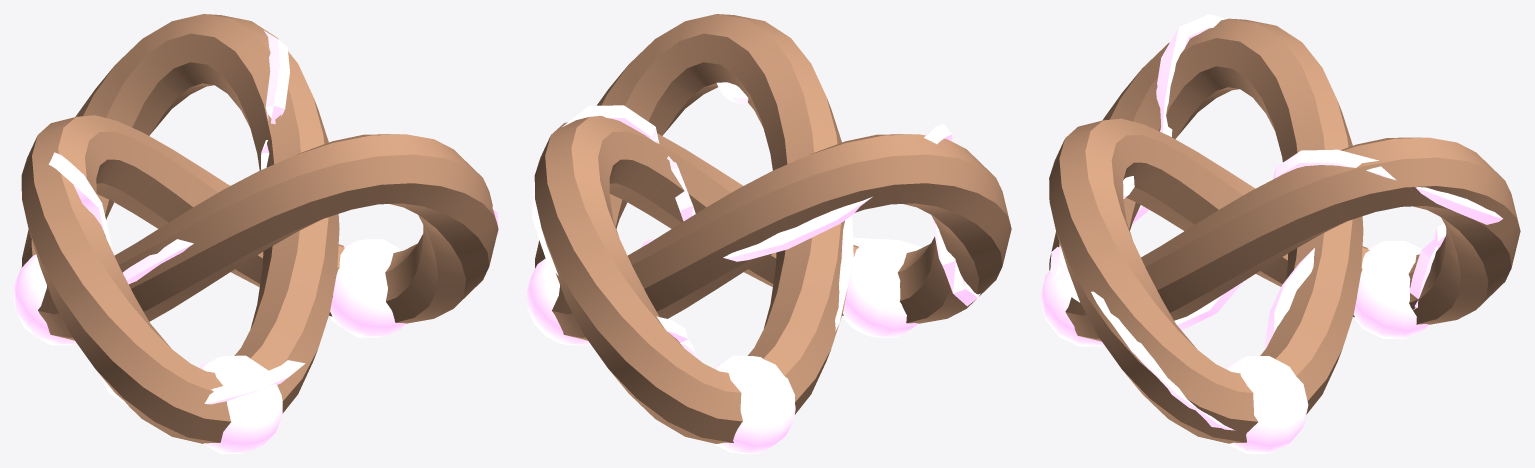
File: art_aegis.glb
3 renders of one model, left to right at view 1: azimuth 30°, elevation 25°; view 2: azimuth 150°, elevation 25°; view 3: azimuth 270°, elevation 25°, orthographic.
Visible parts, largest first — view 1: body; view 2: body; view 3: body.
Boxes of the visible parts, x1,y1,x2,y2 form: body: [14, 14, 498, 453]; body: [527, 14, 1011, 453]; body: [1040, 14, 1520, 453].
Size of the model in its own units: 0.0464 by 0.028 by 0.044.
